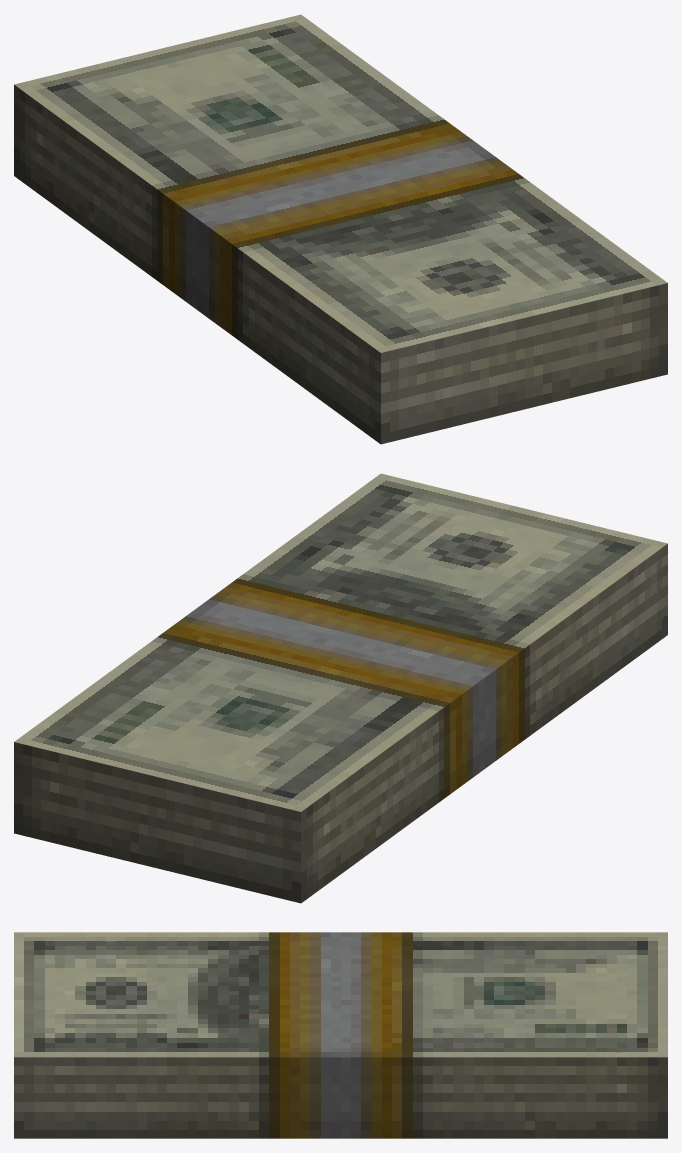
File: cash_2.glb
3 views of the same model, one above another, from view 1: azimuth 30°, elevation 25°; view 2: azimuth 150°, elevation 25°; view 3: azimuth 270°, elevation 25° (orthographic). The views are drawn at different scales.
Visible parts, largest first — view 1: cash_2; view 2: cash_2; view 3: cash_2.
Boxes of the visible parts, bbox=[...] form: cash_2: bbox=[14, 14, 667, 444]; cash_2: bbox=[14, 473, 667, 903]; cash_2: bbox=[14, 932, 667, 1138].
Size of the model in its own units: 0.1031 by 0.0314 by 0.2281.
Materials: 1 (1 with a texture image).
